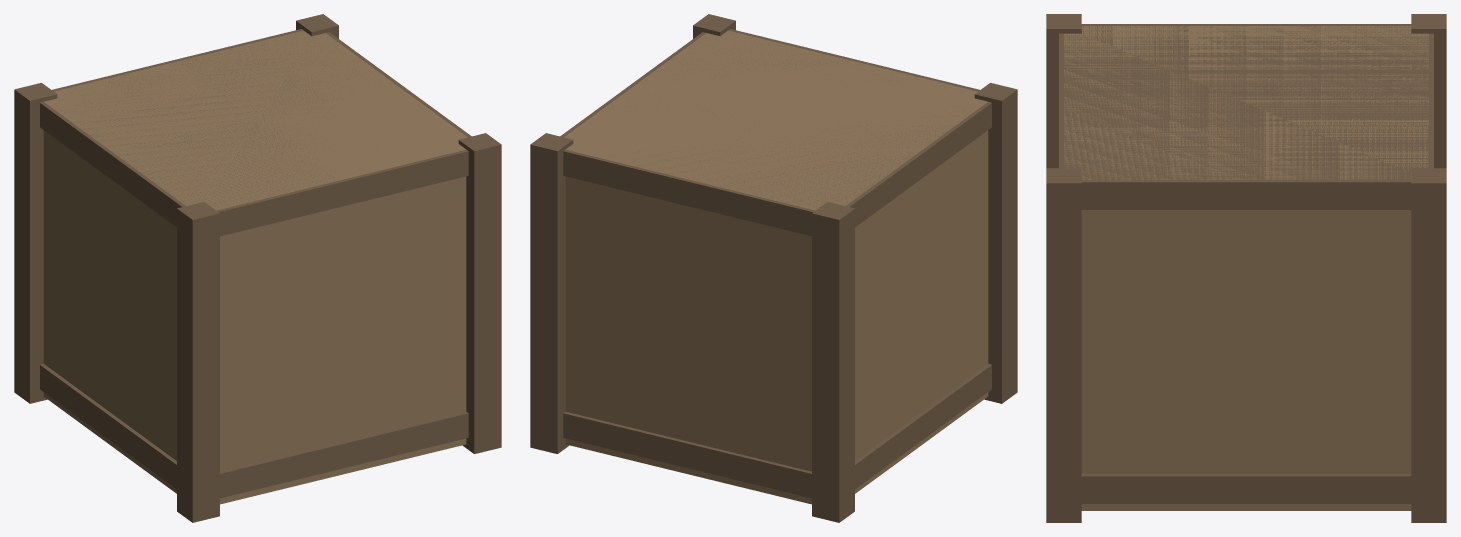
The model's file is crate.glb.
3 renders of one model, left to right at view 1: azimuth 30°, elevation 25°; view 2: azimuth 150°, elevation 25°; view 3: azimuth 270°, elevation 25°, orthographic. The views are drawn at different scales.
Parts seen in each view (by area): view 1: crate; view 2: crate; view 3: crate.
Boxes of the visible parts, x1,y1,x2,y2 form: crate: [14, 14, 501, 522]; crate: [530, 14, 1017, 522]; crate: [1046, 14, 1446, 522].
Size of the model in its own units: 0.79 by 0.74 by 0.79.
